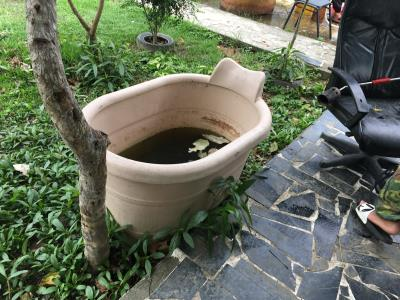tire: (134, 30, 177, 52)
tub: (75, 58, 276, 238)
